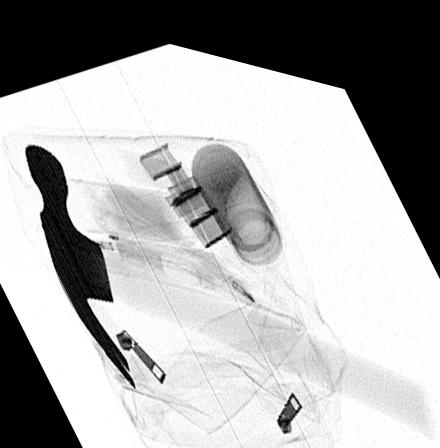Hammer: (21, 140, 436, 418)
